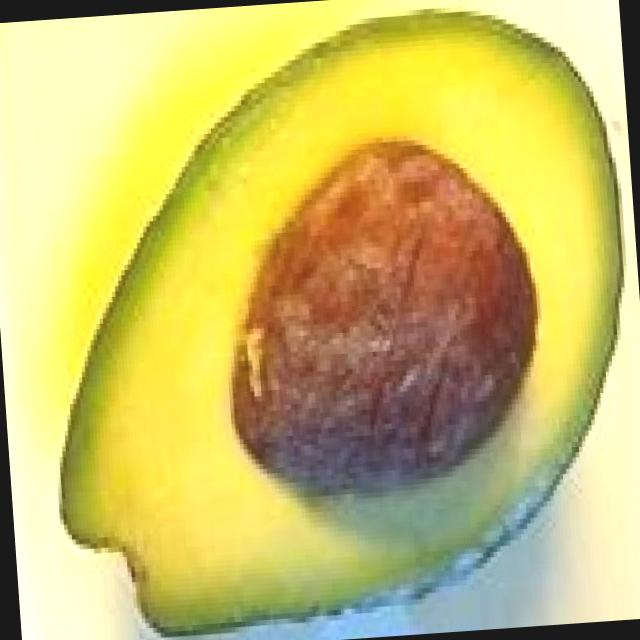avocado: (25, 0, 638, 640)
